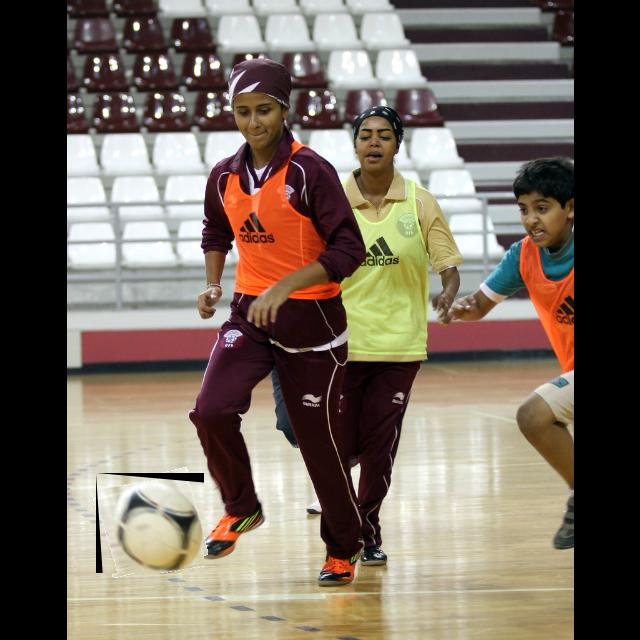Football: (96, 473, 204, 573)
